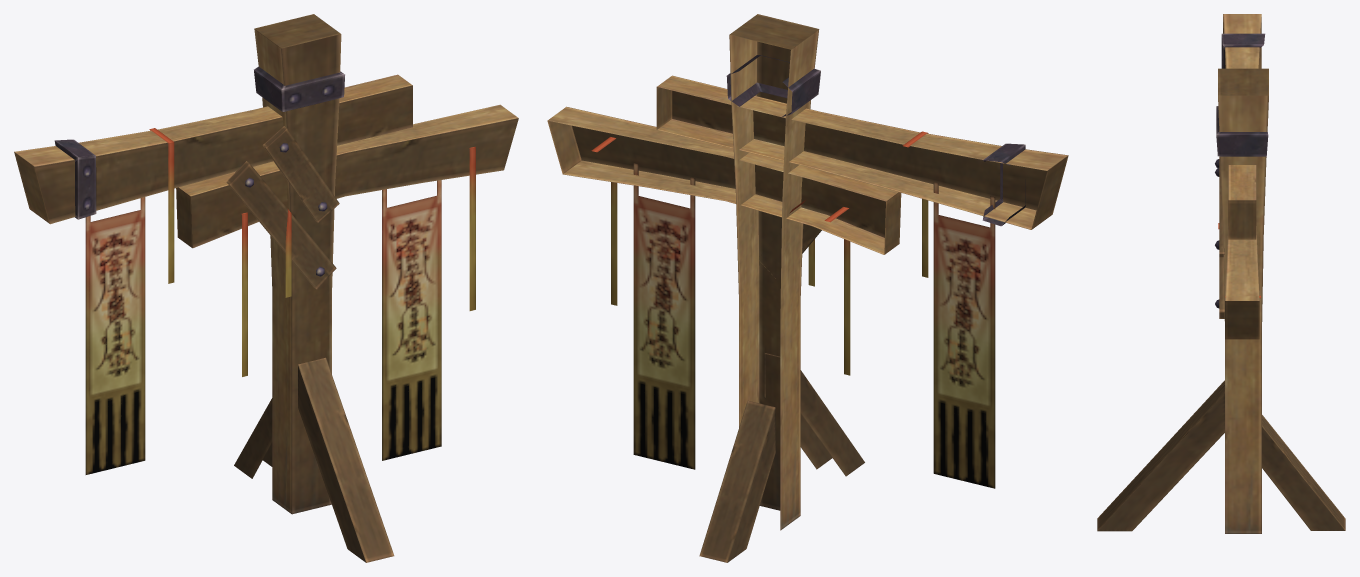
The model's file is Map01_JiTan_02.FBX.
3 views of the same model, side by side, from view 1: azimuth 30°, elevation 25°; view 2: azimuth 150°, elevation 25°; view 3: azimuth 270°, elevation 25° (orthographic). The views are drawn at different scales.
Parts seen in each view (by area): view 1: Map01_JiTan_02; view 2: Map01_JiTan_02; view 3: Map01_JiTan_02.
Boxes of the visible parts, x1=… form: Map01_JiTan_02: x1=14, y1=14, x2=518, y2=562; Map01_JiTan_02: x1=547, y1=14, x2=1068, y2=562; Map01_JiTan_02: x1=1097, y1=14, x2=1345, y2=533.
Bounding box in the file's own units: 673 × 625 × 319.
